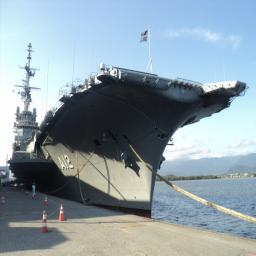Portanaves: (8, 22, 249, 235)
